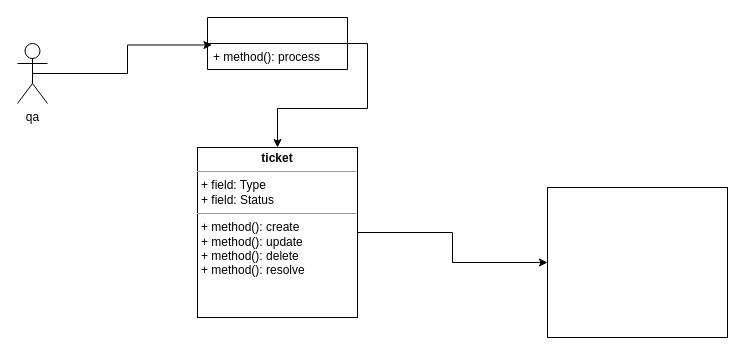
Some shapes in this 745 by 355 pixel diagram are drawn without their labels. The shapes that lost their labels are listed below. From the top down, each one's box as (x1, y1, x2, y2) in pixels, then its label:
(206, 16, 348, 70): token permission
(546, 186, 728, 338): ticket PK id type status 是否被解決 severity priority
